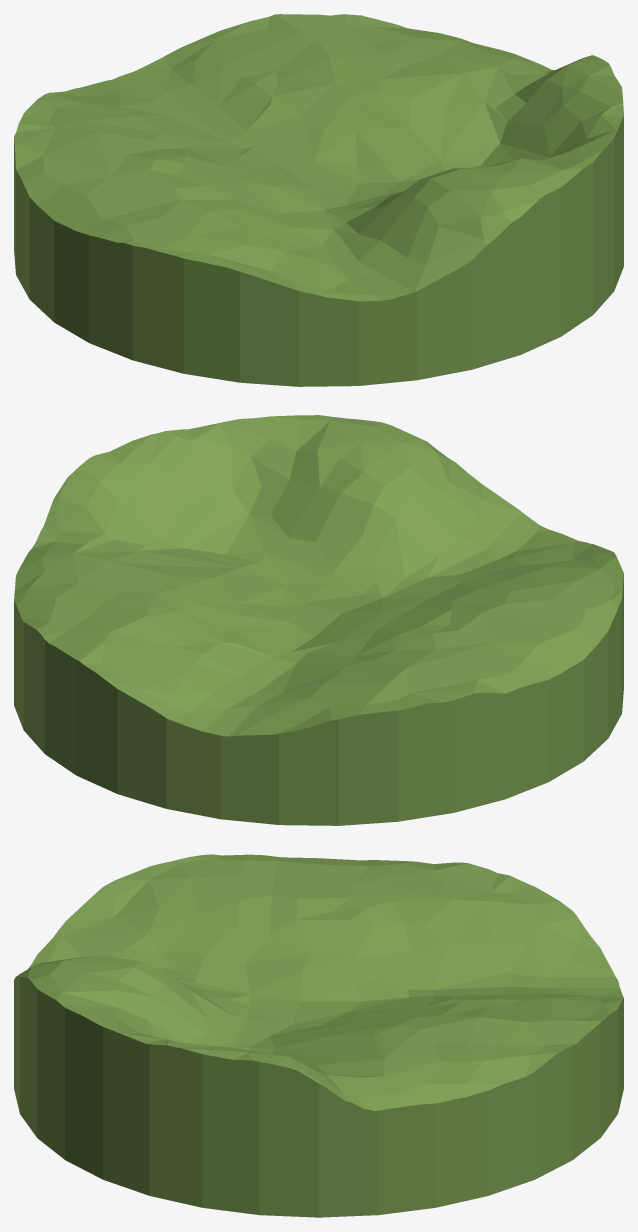
The model's file is Terrain_2.fbx.
The picture shows the model from 3 angles, top to bottom: view 1: azimuth 30°, elevation 25°; view 2: azimuth 150°, elevation 25°; view 3: azimuth 270°, elevation 25°; orthographic projection.
Visible parts, largest first — view 1: Terrain_2; view 2: Terrain_2; view 3: Terrain_2.
Boxes of the visible parts, x1,y1,x2,y2 form: Terrain_2: (14,14,623,386); Terrain_2: (14,415,623,825); Terrain_2: (14,854,623,1217).
Bounding box in the file's own units: 1242 × 348 × 1242.
